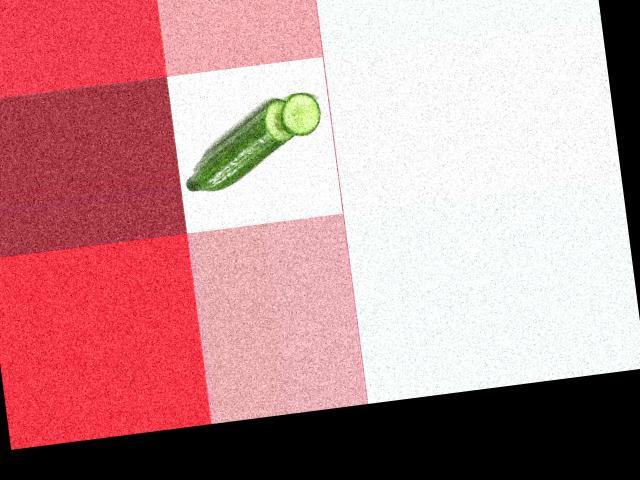cucumber: (177, 97, 301, 193)
